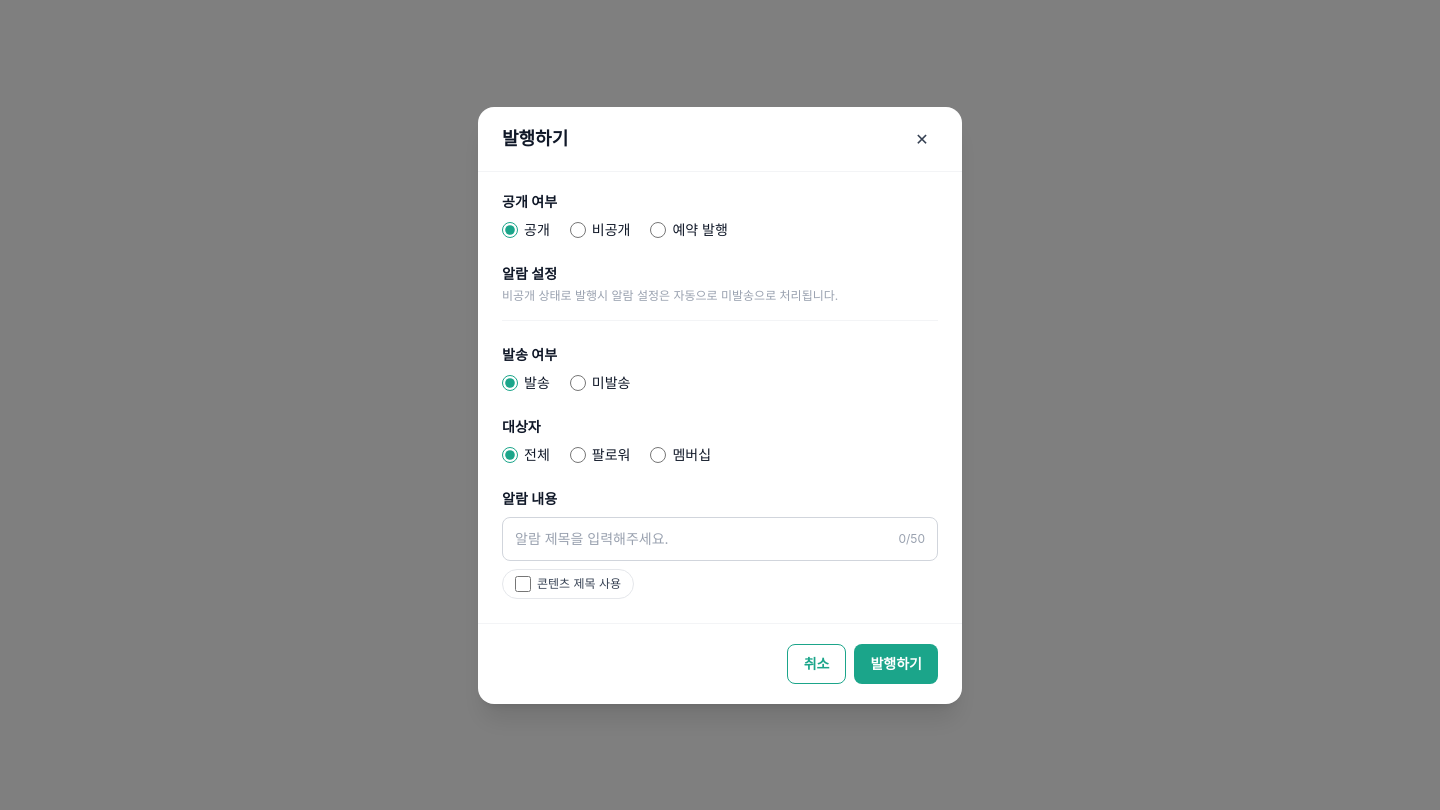
Scenario: PublishModal › 콘텐츠 제목 사용을 체크하면 알람 내용이 콘텐츠 제목으로 채워지고 해제하면 비워진다
Step 1. Click the radio button labelled "공개" → (510, 230), box [502,222,518,238]
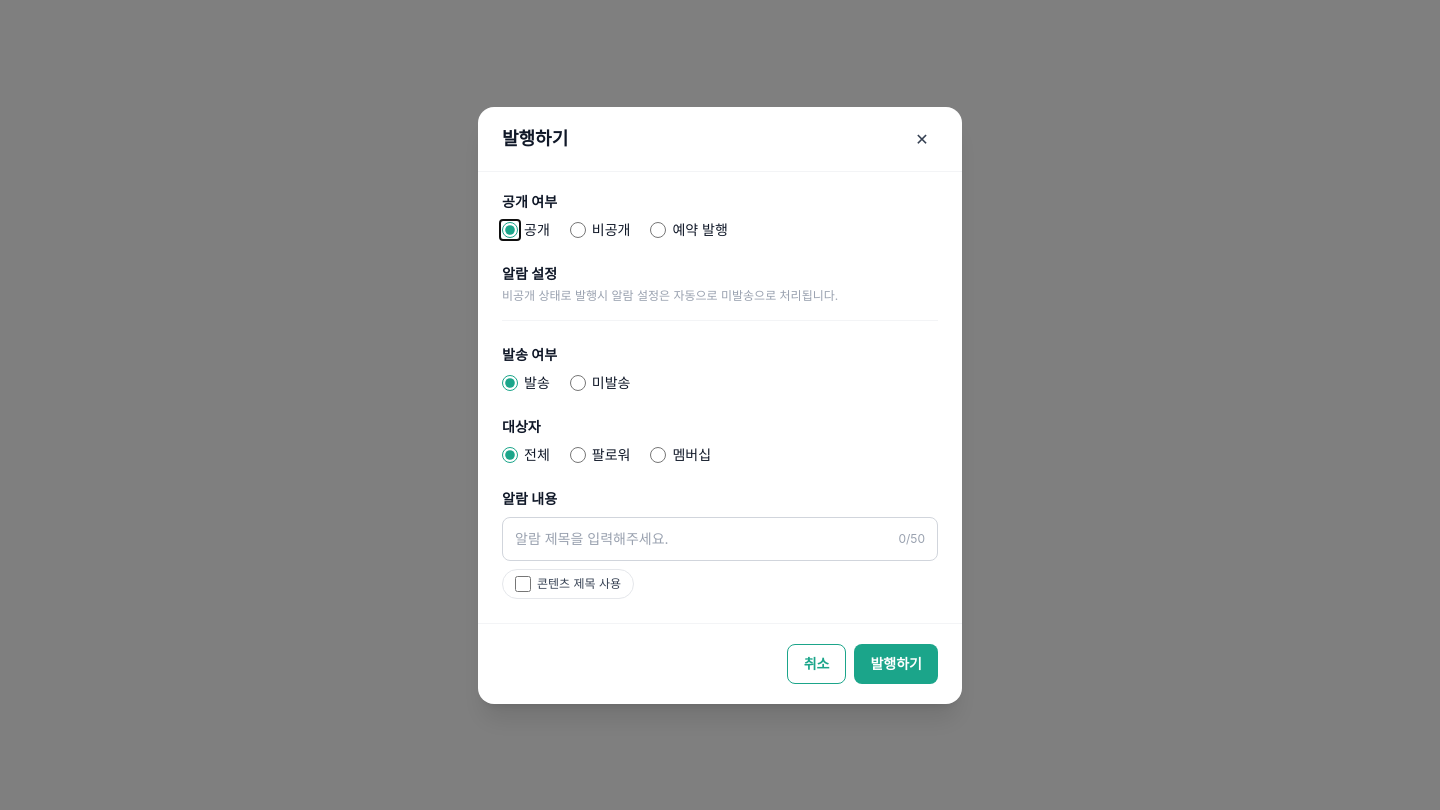
Step 2. Click the checkbox labelled "콘텐츠 제목 사용" → (523, 584), box [515,576,531,592]
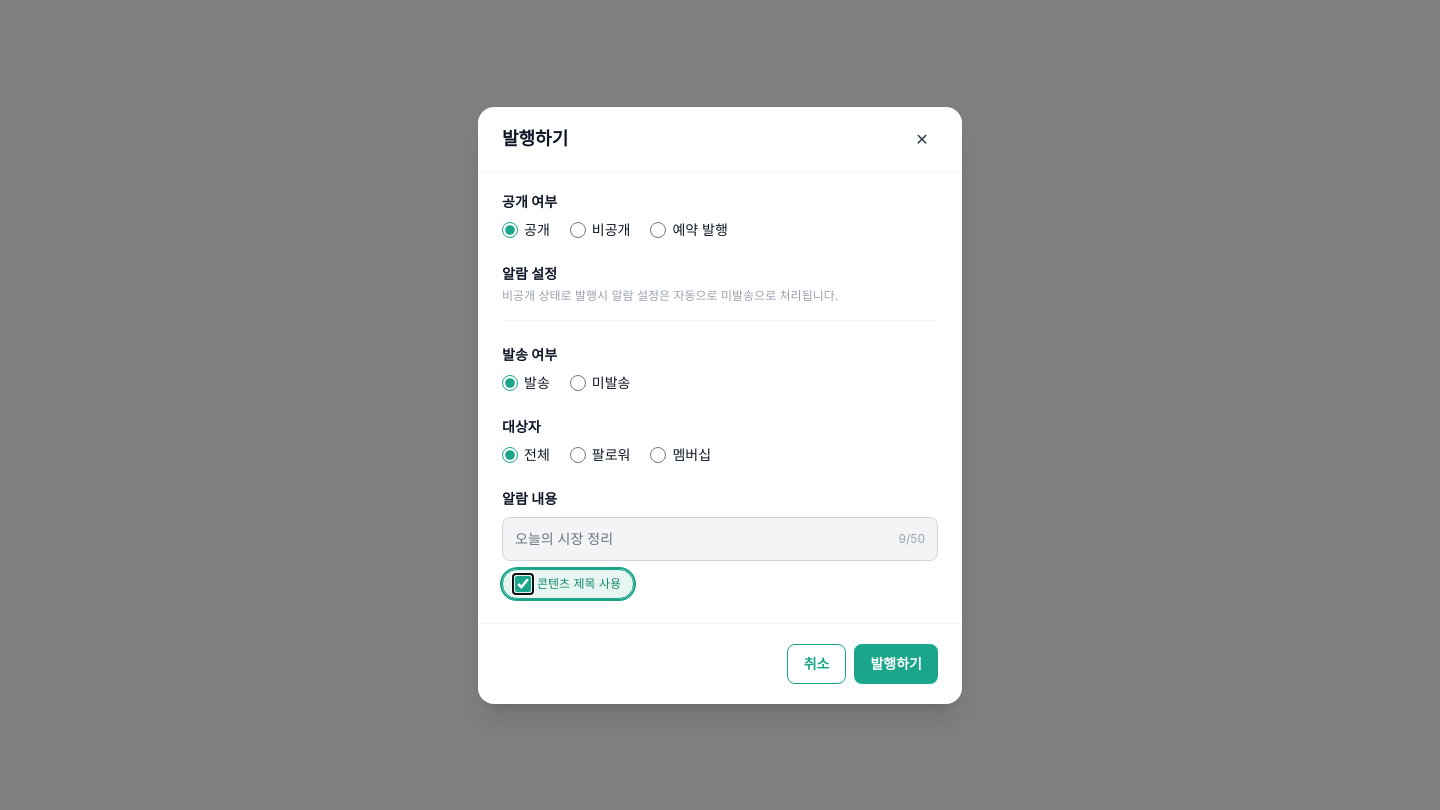
Check: the field labelled "알람 내용" holds "오늘의 시장 정리", box [515,528,890,548]
Check: the field labelled "알람 내용" is disabled, box [515,528,890,548]
Step 3. Click the checkbox labelled "콘텐츠 제목 사용" → (523, 584), box [515,576,531,592]
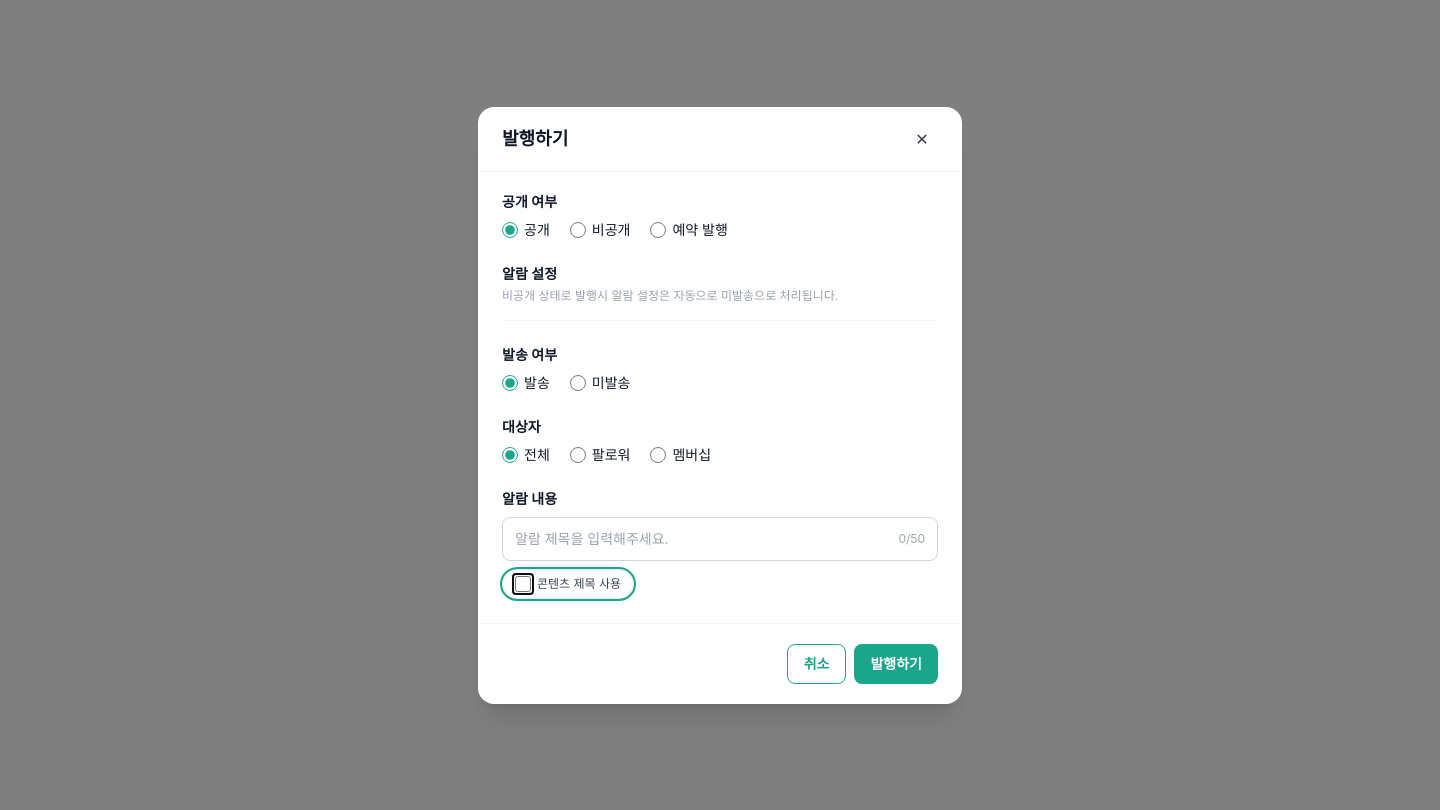
Check: the field labelled "알람 내용" is empty, box [515,528,890,548]
Check: the field labelled "알람 내용" is enabled, box [515,528,890,548]
